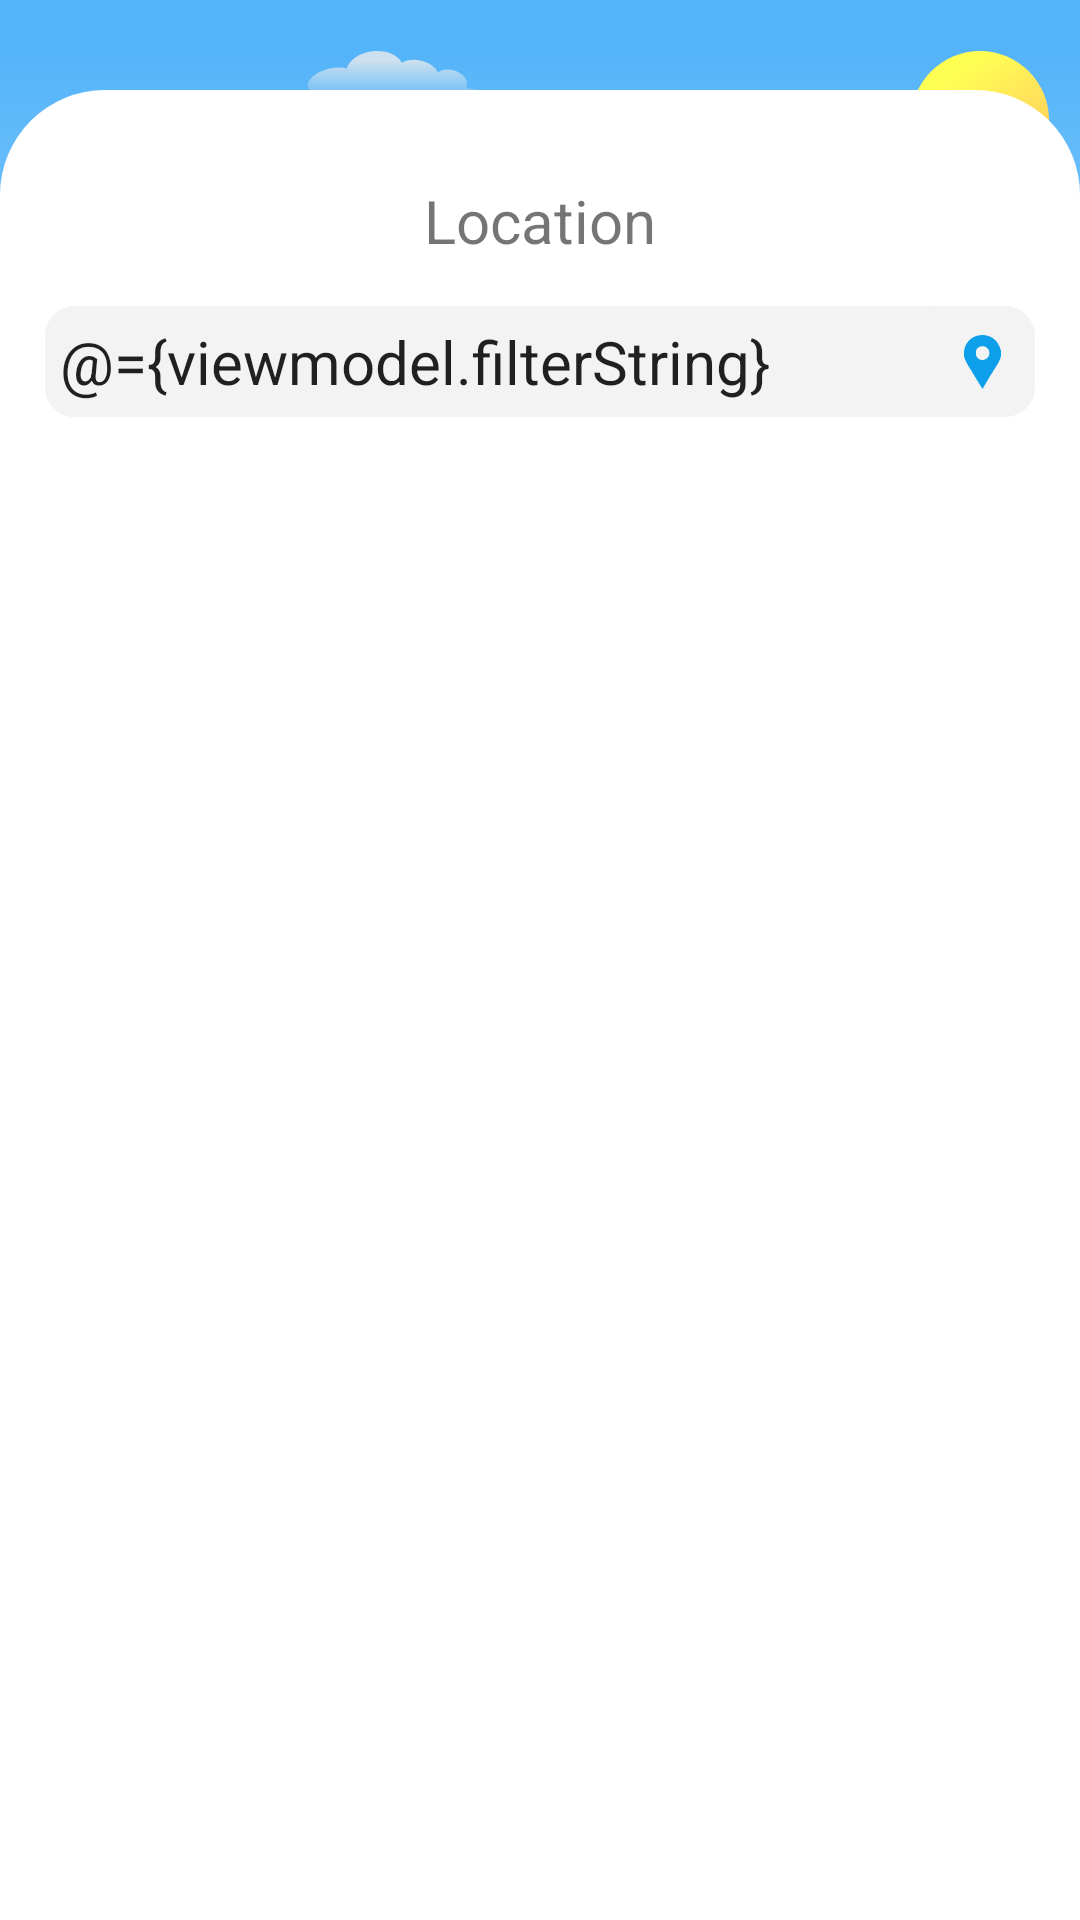

Locate icon controls on the screen. Image size 1080 x 1920, boxes as (x1, y1, x2, y2).
facebook places: (964, 335, 1001, 389)
